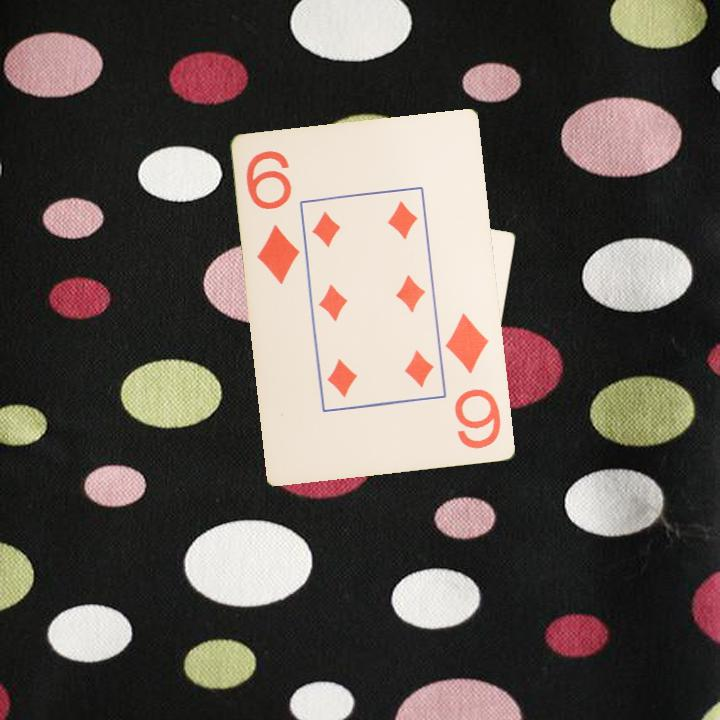6d: (442, 309, 505, 452), (243, 147, 303, 288)
